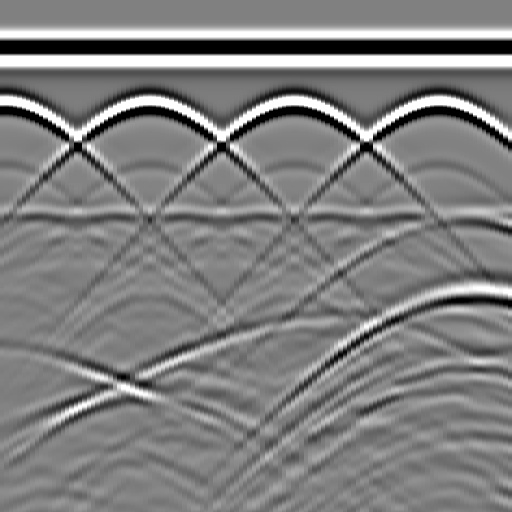grout_surface: (1, 200, 512, 230)
rebar: (127, 85, 167, 125), (271, 85, 311, 125), (416, 85, 456, 125)
rock_surface: (1, 318, 511, 393)
water_void: (441, 195, 501, 235)
